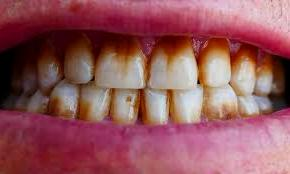Calculus: (145, 36, 197, 90), (93, 36, 147, 87), (195, 36, 233, 89), (167, 83, 208, 126), (201, 86, 245, 125), (43, 80, 78, 127), (75, 83, 111, 128), (57, 40, 90, 88), (228, 51, 260, 97), (135, 86, 170, 125), (107, 84, 141, 122)
